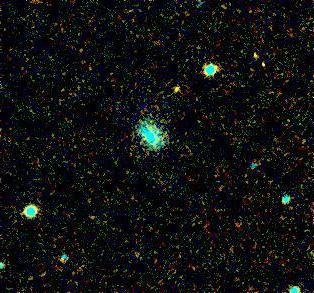star: (164, 74, 194, 104)
